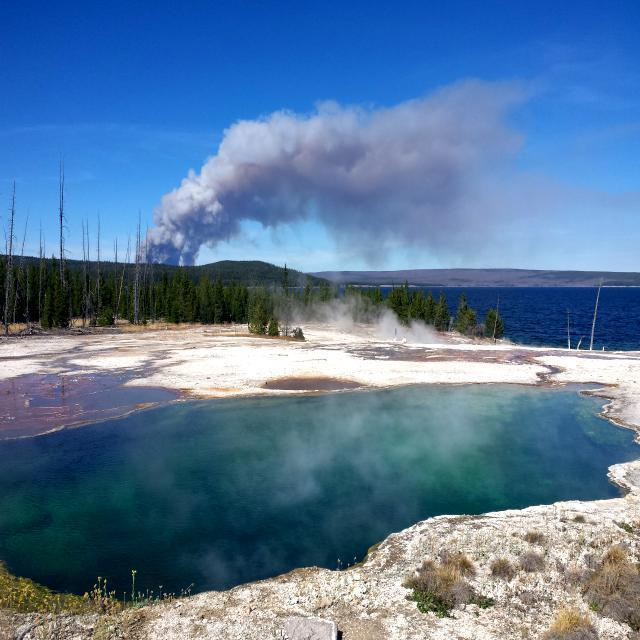Smoke: (117, 61, 564, 266)
